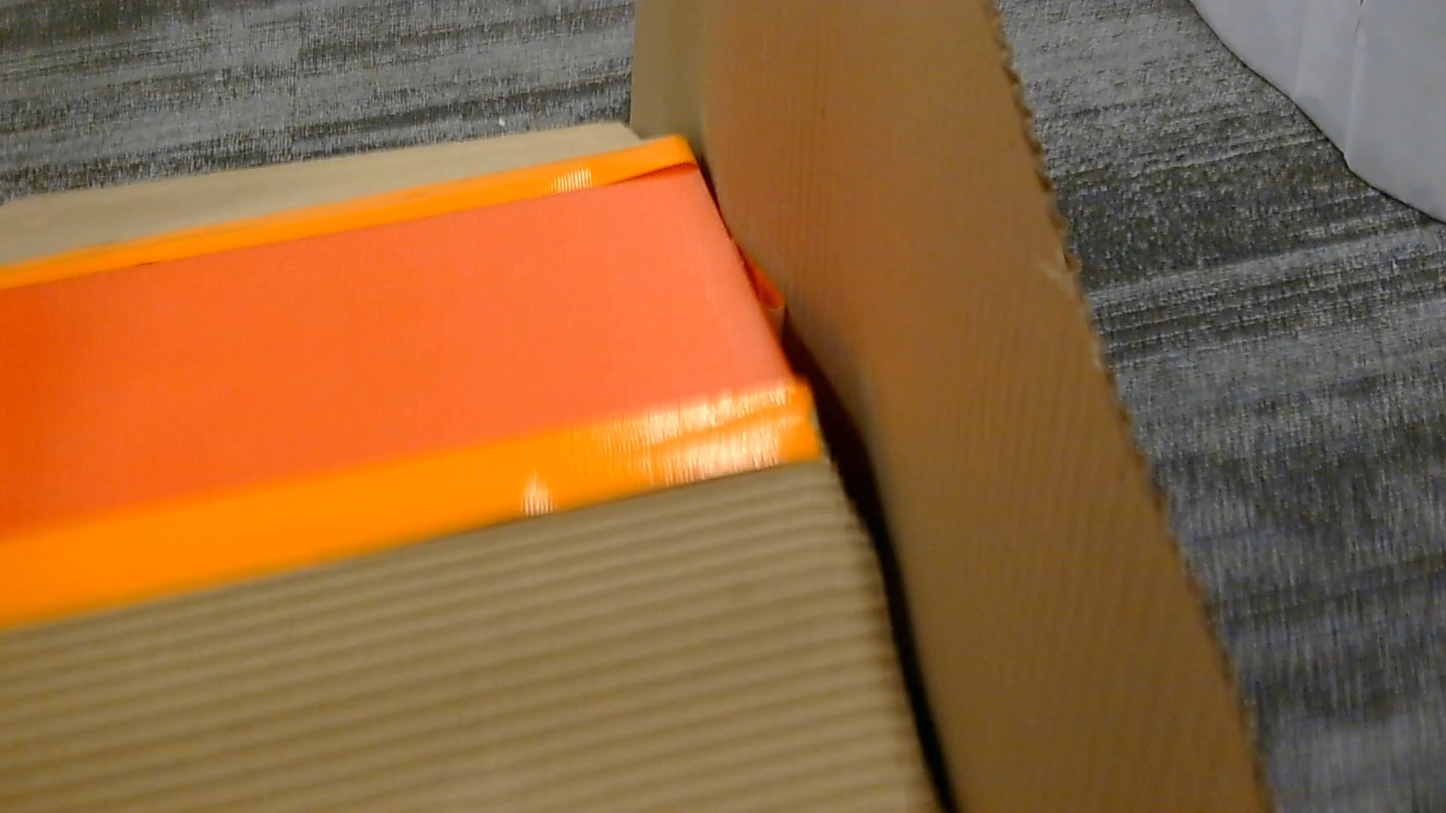Ramp: (0, 0, 1271, 812)
